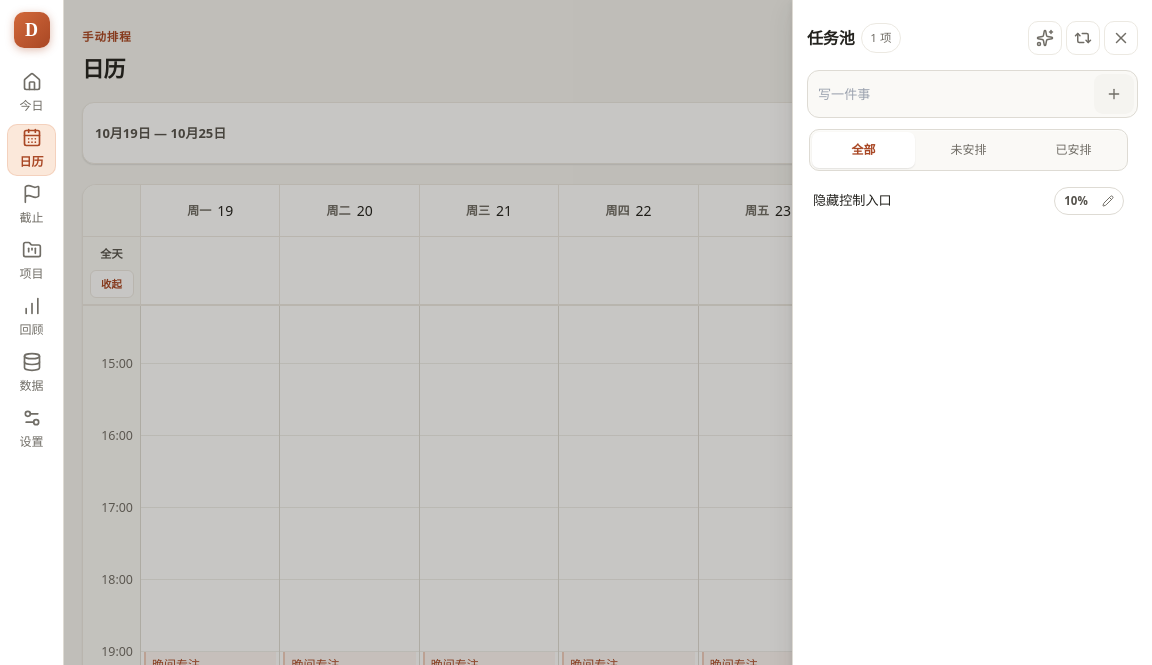
Test: phase 1 manual alpha › can hide the actual-record toolbar control without disabling the stored overlay
(page scrolled)
Expected: the checkbox labelled "显示实际记录" is not shown
Click the button "设置". click: (32, 430)
box: [7,404,56,456]
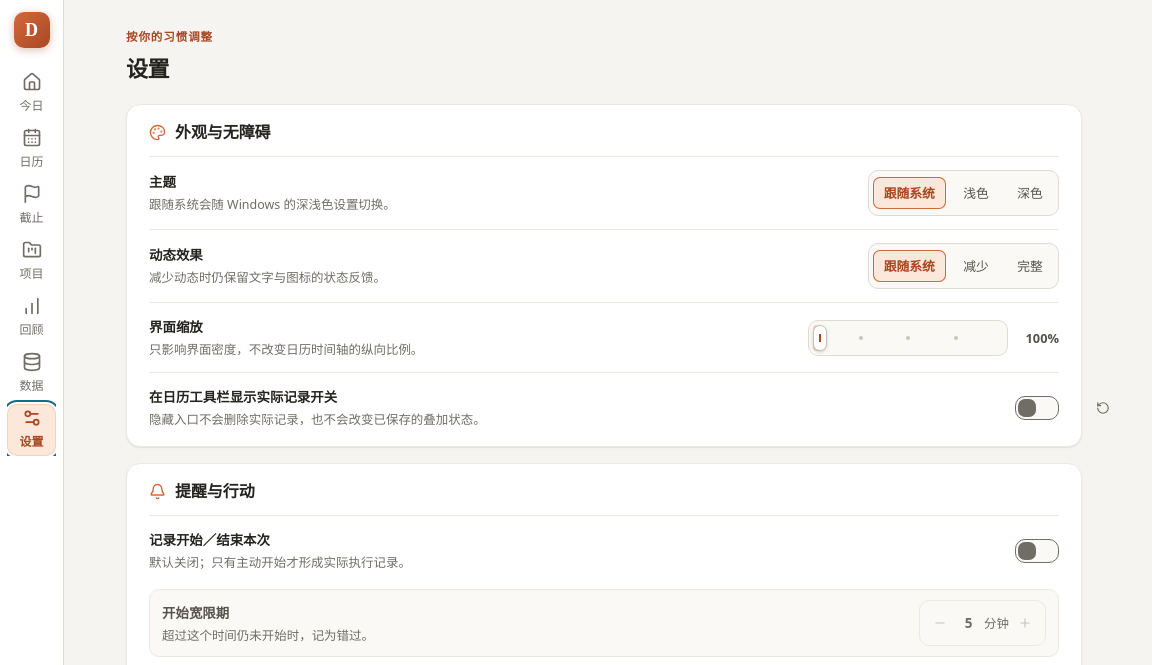
Result: the checkbox labelled "在日历工具栏显示实际记录开关" is not checked at [1015,396,1059,420]
